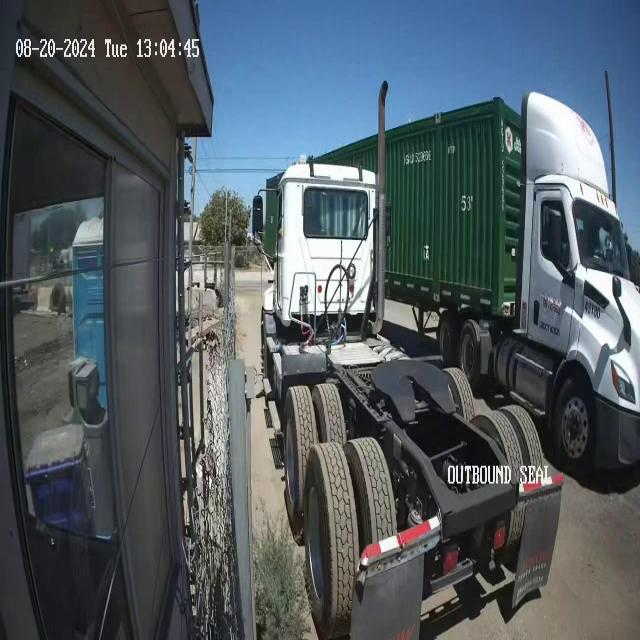TRUCK_IN: (396, 101, 633, 479)
TRUCK_OUT: (248, 161, 558, 640)
